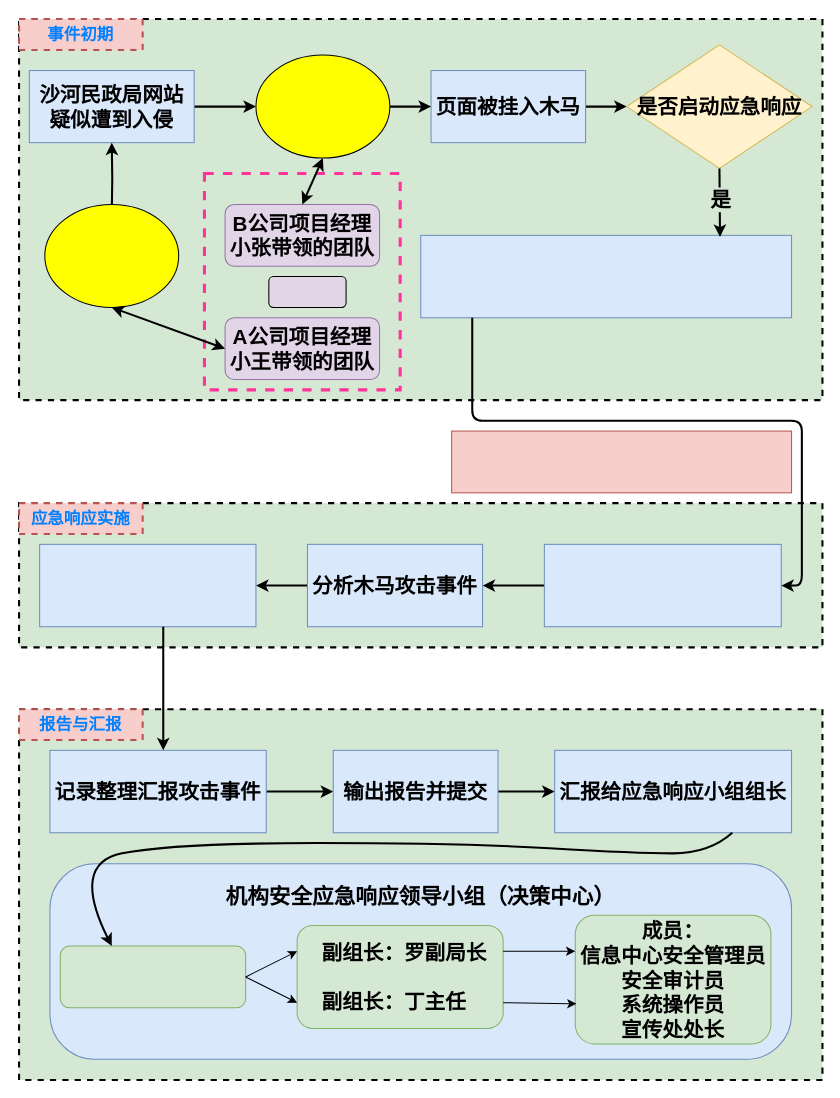
Some shapes in this 840 by 1098 pixel diagram are drawn without their labels. Here are the shapes that lost their labels. From the top down, the centre of each, then its label:
point (322, 106): 安全运营团队进行检查
point (111, 255): 开发 负责日常系统运维
point (307, 291): 供应商
point (606, 276): 启动应急响应一级预案
point (621, 461): 上报沙河市民政局应急响应领导小组
point (147, 585): 查杀木马并修补漏洞
point (662, 585): 收集页面攻击信息
point (152, 976): 组长：周局长
